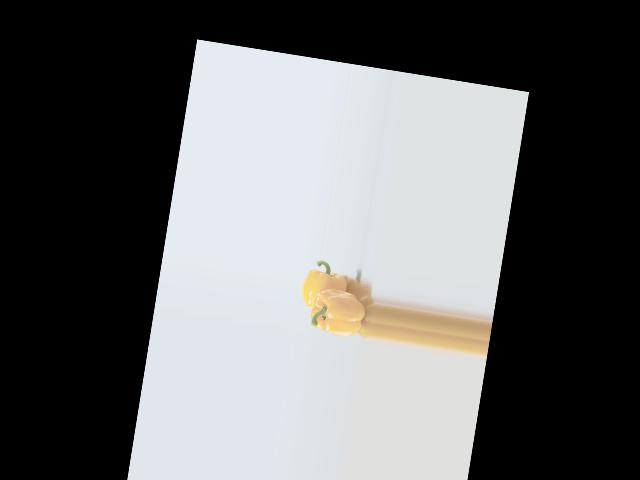bell_pepper: (298, 258, 357, 315)
